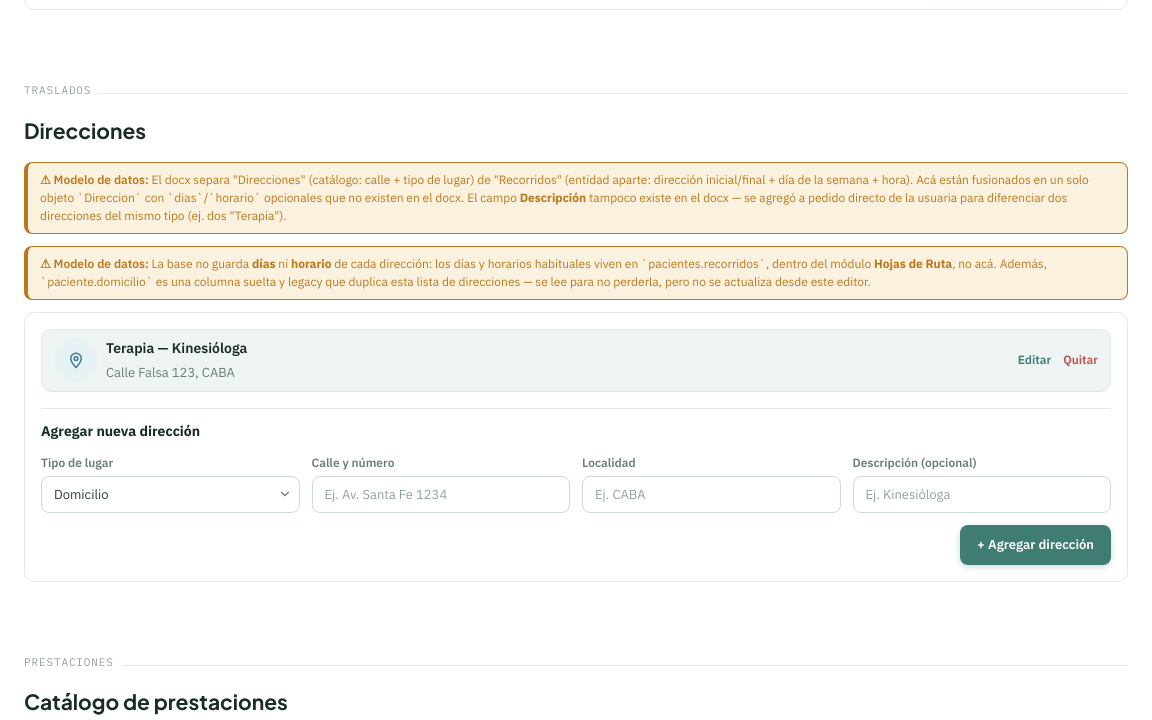
Test: PacienteDetail › calcula la cantidad de documentos por dirección y la pasa al editor de direcciones para advertir al quitar (tasks.md 6.1)
(page scrolled)
What coordinates should you click on to do the following:
click the button with aria-label "quitar terapia"
I would click on:
 (1081, 360)
Its box is [1063,352,1098,368].
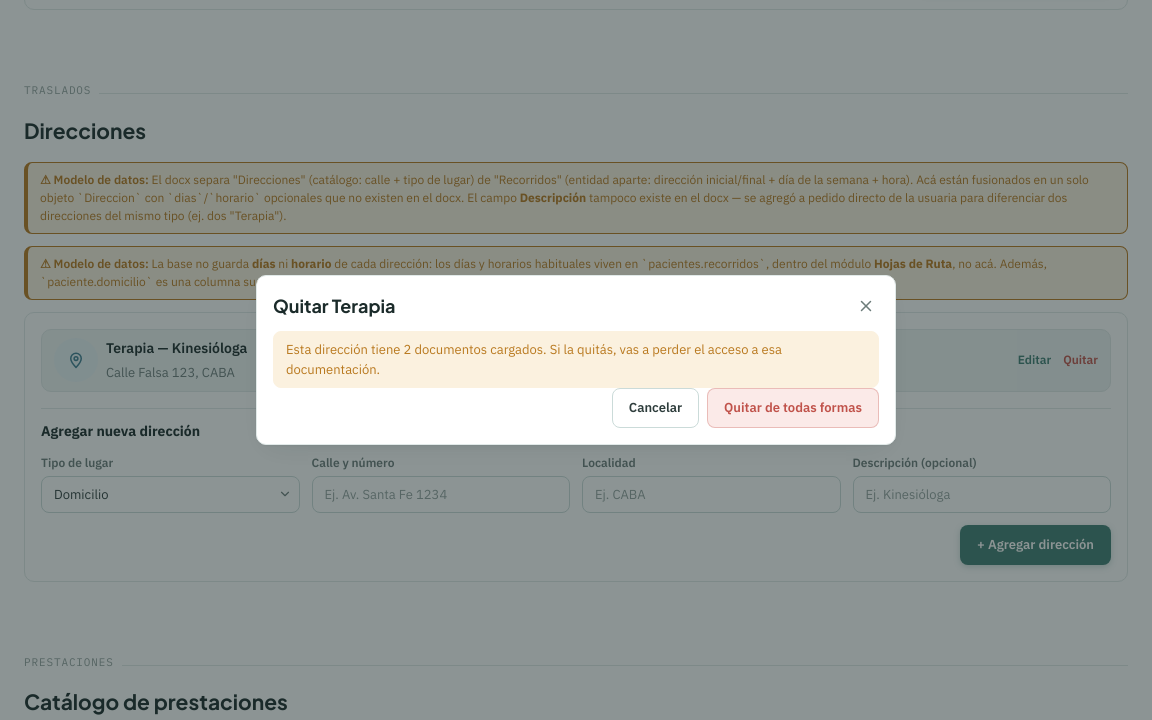
Expected: the dialog shows "2", [404,341,411,358]
